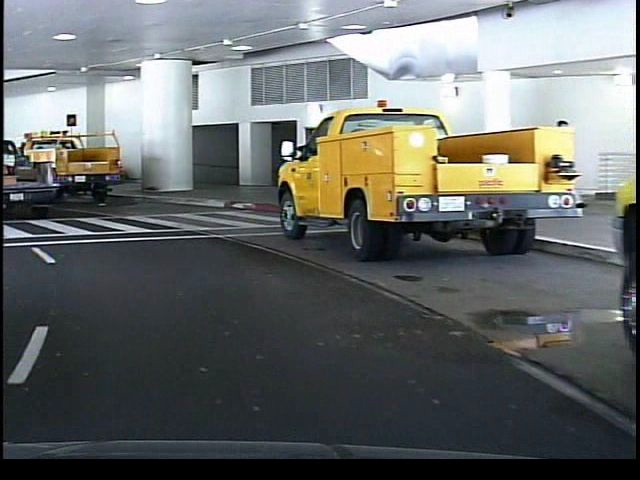person: (545, 112, 579, 218)
